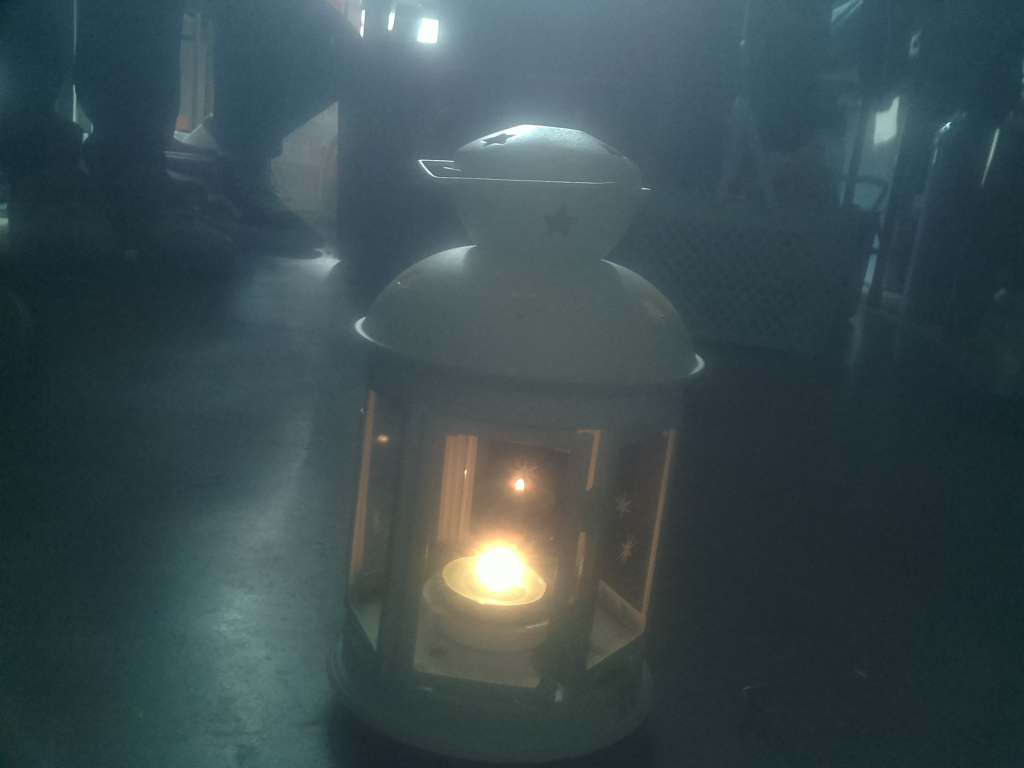fire: (444, 524, 571, 629)
